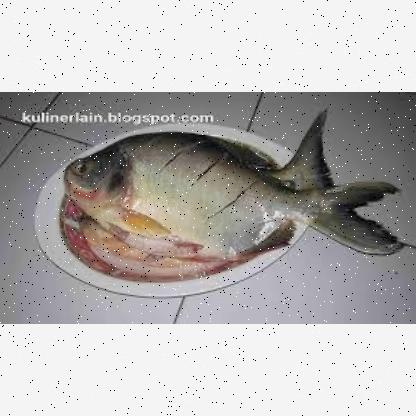ikan-pacu: (60, 136, 382, 256)
